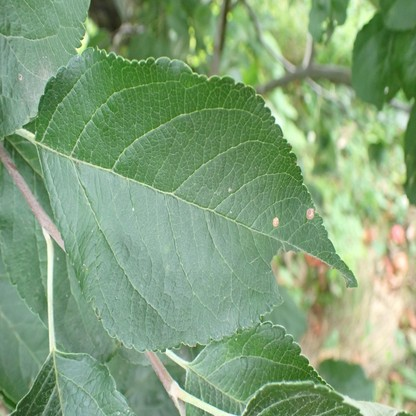frogeye_leaf_spot: (307, 208, 314, 220), (273, 217, 279, 226), (18, 72, 23, 80)
powdery_mildew: (32, 68, 53, 112)
